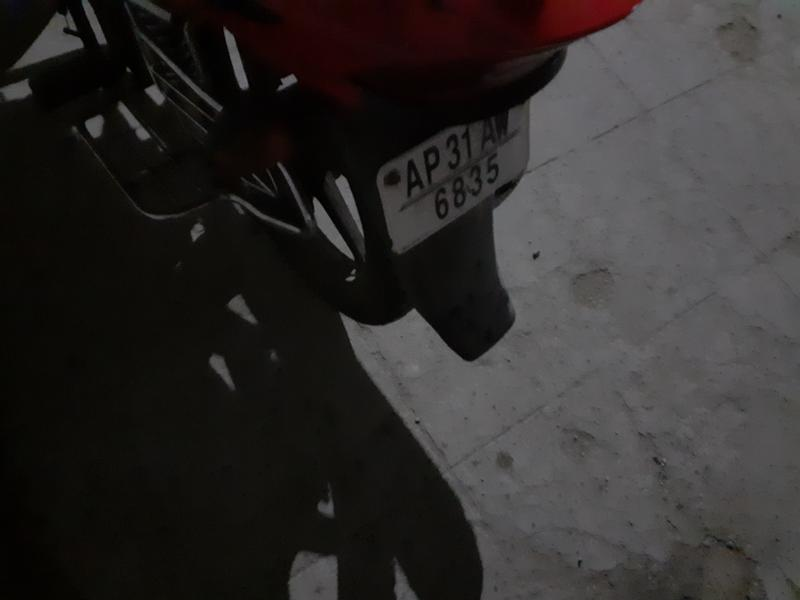numberplate: (381, 96, 547, 248)
